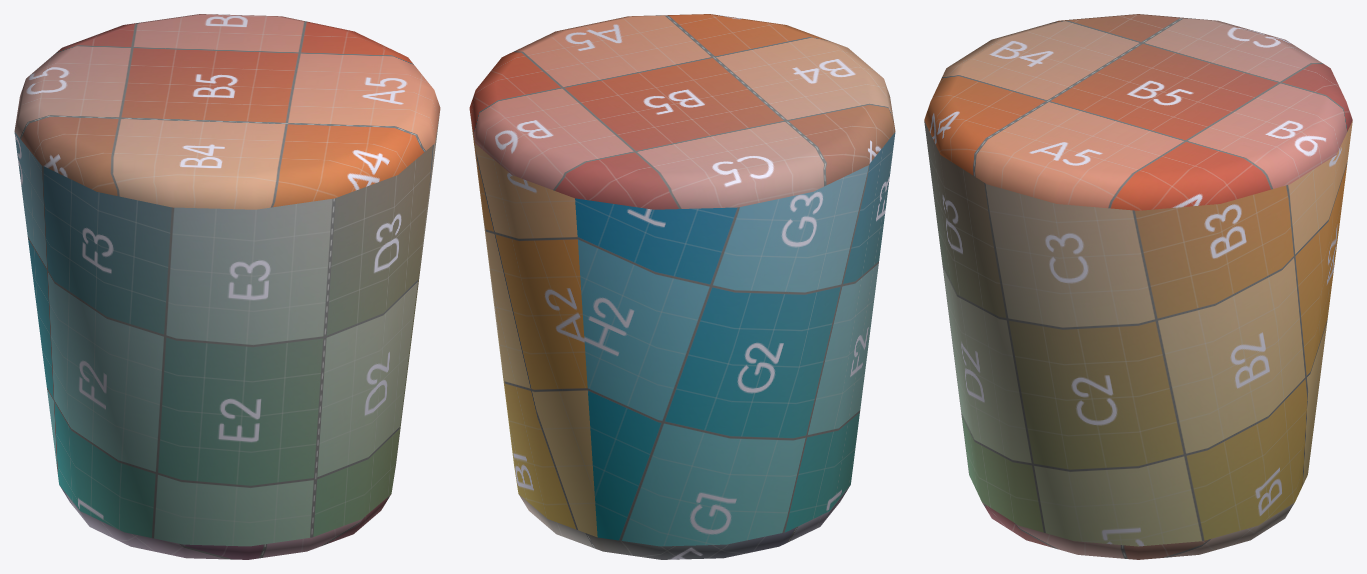
Rendered from MediumLid_SHAT.fbx.
The picture shows the model from 3 angles, left to right: view 1: azimuth 30°, elevation 25°; view 2: azimuth 150°, elevation 25°; view 3: azimuth 270°, elevation 25°; orthographic projection.
Parts seen in each view (by area): view 1: MediumLid_SHAT.001; view 2: MediumLid_SHAT.001; view 3: MediumLid_SHAT.001.
Boxes of the visible parts, x1,y1,x2,y2 form: MediumLid_SHAT.001: [14, 14, 440, 559]; MediumLid_SHAT.001: [469, 14, 895, 559]; MediumLid_SHAT.001: [924, 14, 1352, 559].
Size of the model in its own units: 0.2263 by 0.2365 by 0.2263.
1 material, 1 textured.
